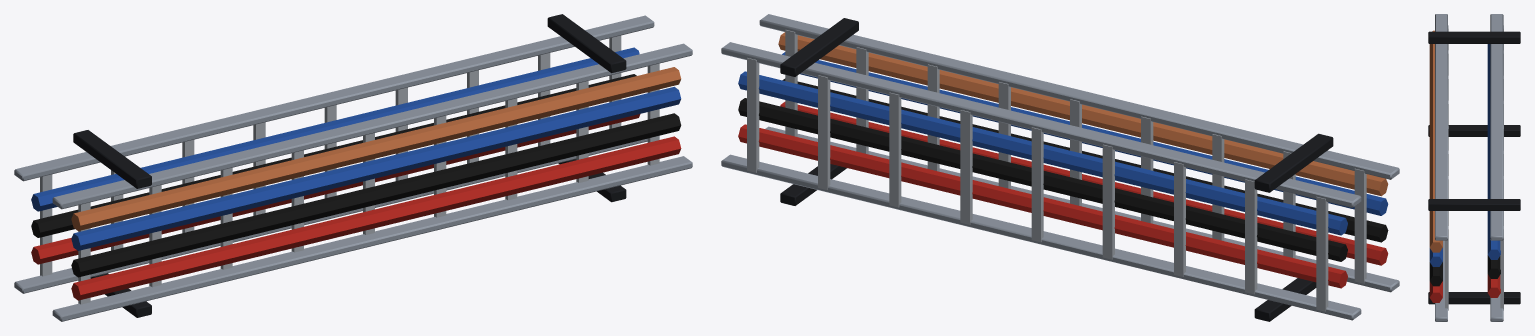
Rendered from cabletray_two_tier_tray.glb.
3 views of the same model, side by side, from view 1: azimuth 30°, elevation 25°; view 2: azimuth 150°, elevation 25°; view 3: azimuth 270°, elevation 25° (orthographic). The views are drawn at different scales.
Visible parts, largest first — view 1: cabletray_two_tier_tray; view 2: cabletray_two_tier_tray; view 3: cabletray_two_tier_tray.
Part boxes in pixels (x1=…): cabletray_two_tier_tray: x1=14, y1=14, x2=692, y2=321; cabletray_two_tier_tray: x1=721, y1=14, x2=1399, y2=321; cabletray_two_tier_tray: x1=1428, y1=14, x2=1520, y2=321.
Size of the model in its own units: 2 by 0.42 by 0.35.
